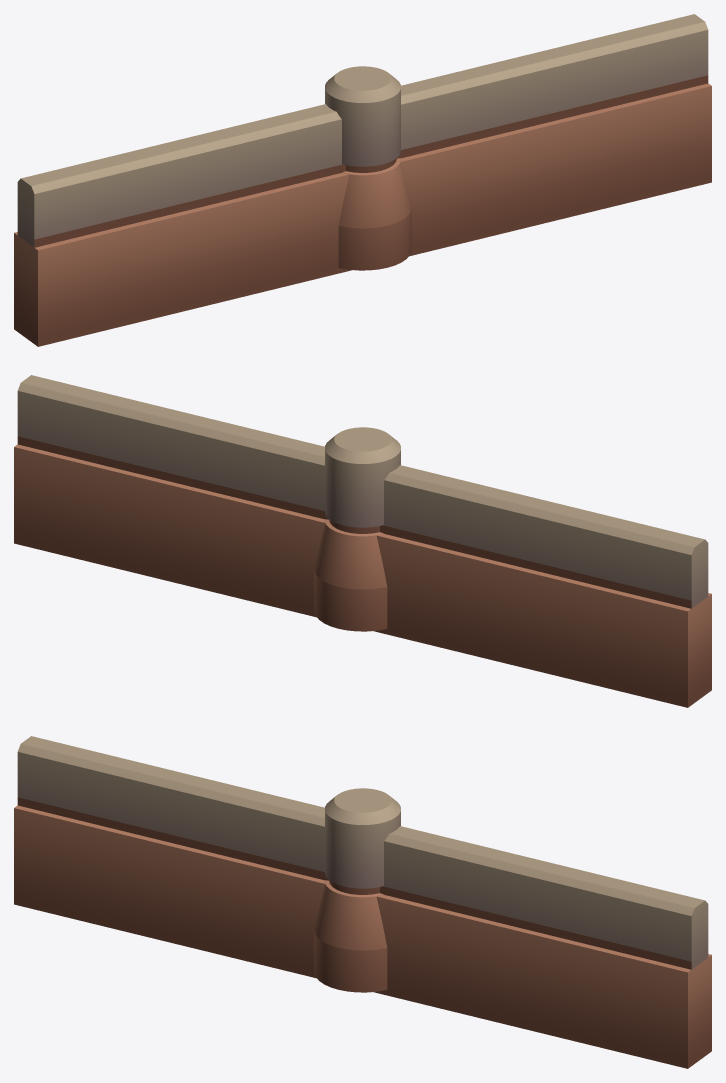
File: SmallWalls.fbx
The picture shows the model from 3 angles, top to bottom: view 1: azimuth 30°, elevation 25°; view 2: azimuth 150°, elevation 25°; view 3: azimuth 330°, elevation 25°; orthographic projection.
Parts seen in each view (by area): view 1: was_3, was_2, connector3, was_1; view 2: was_3, was_2, connector3, was_1; view 3: was_3, was_2, connector3, was_1.
Boxes of the visible parts, <box> form: was_3: <box>14,14,711,346</box>; was_2: <box>189,55,543,305</box>; connector3: <box>325,66,411,270</box>; was_1: <box>274,75,456,277</box>; was_3: <box>14,375,711,707</box>; was_2: <box>182,416,536,666</box>; connector3: <box>314,427,400,631</box>; was_1: <box>266,436,450,645</box>; was_3: <box>14,736,711,1068</box>; was_2: <box>182,777,536,1027</box>; connector3: <box>314,788,400,992</box>; was_1: <box>266,797,450,1006</box>.
Size of the model in its own units: 800 by 201 by 100.
